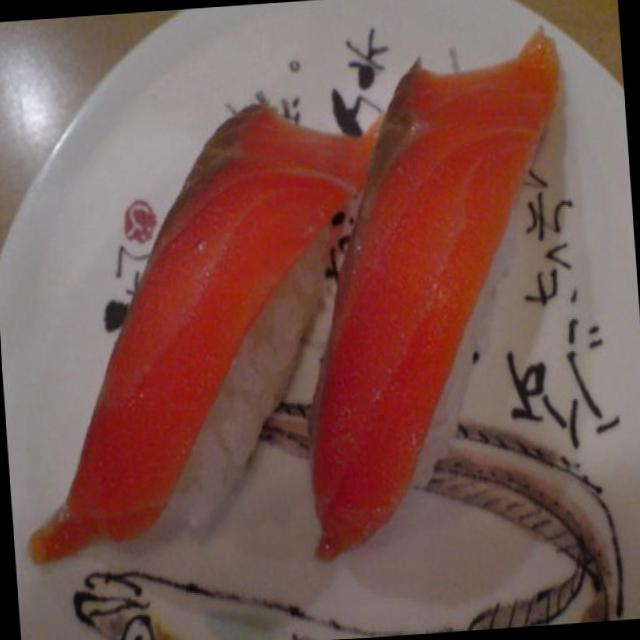Sushi: (276, 10, 589, 564), (64, 100, 388, 542)
